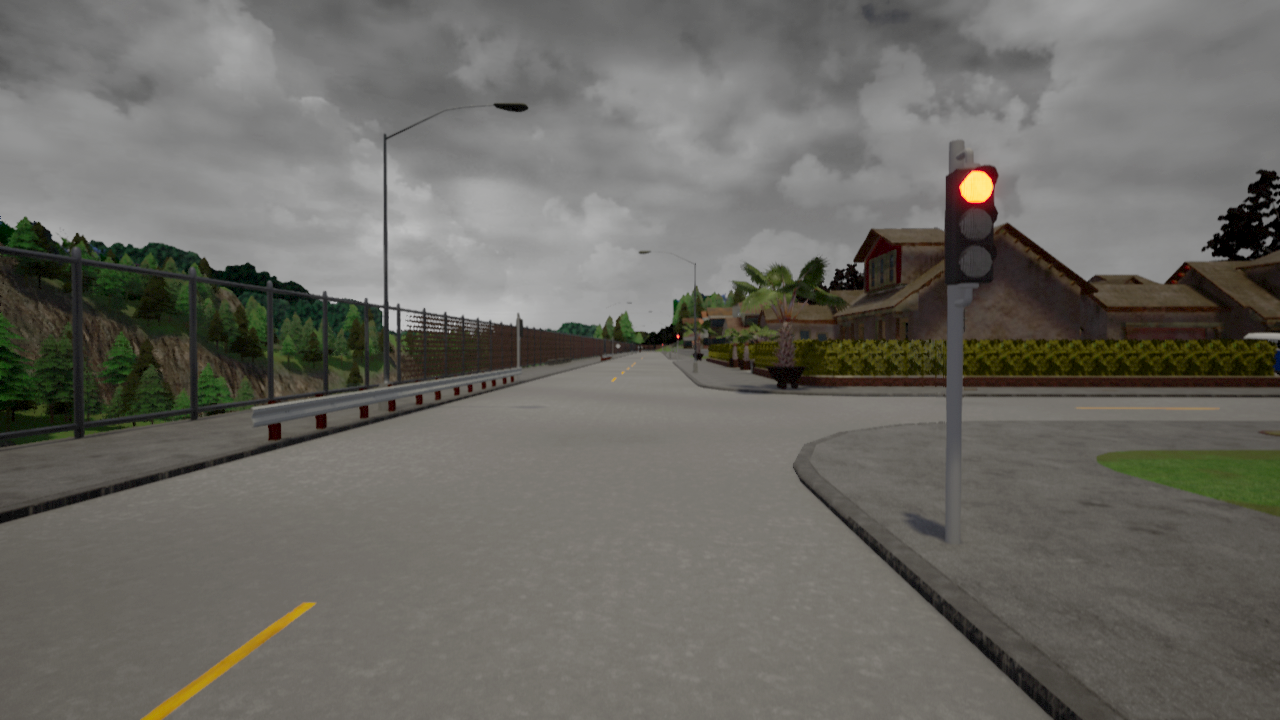red: (944, 161, 996, 281)
